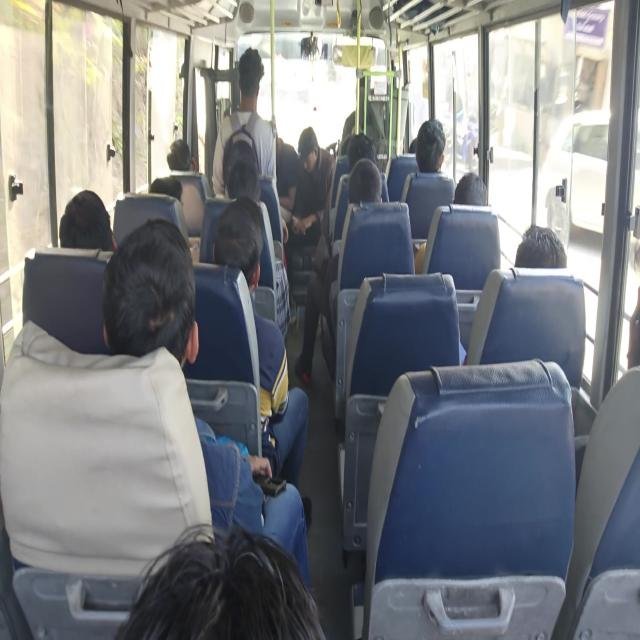person: (164, 504, 293, 640), (505, 195, 620, 344), (66, 195, 168, 292), (216, 210, 271, 309), (123, 252, 177, 349), (238, 52, 278, 146), (227, 170, 270, 223), (348, 160, 384, 212), (274, 127, 295, 197), (462, 167, 493, 213), (621, 300, 640, 367), (150, 174, 177, 218), (170, 139, 194, 185), (298, 141, 324, 181), (340, 133, 365, 169), (228, 146, 260, 172), (425, 134, 441, 177), (357, 131, 375, 166), (407, 138, 422, 169)
